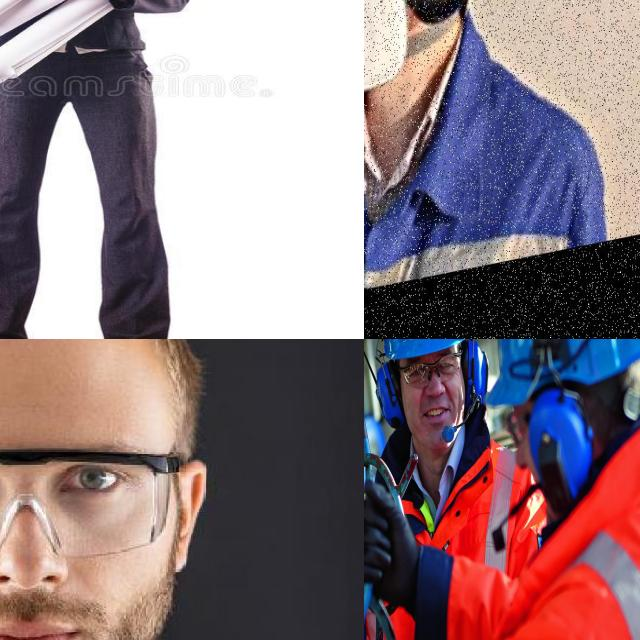Ear-protection: (406, 0, 493, 70)
No_Ear-Protection: (174, 463, 210, 574)
face_nomask: (0, 511, 176, 640), (399, 354, 466, 449)
glasses: (0, 450, 180, 555), (398, 355, 464, 392)
hand_glove: (364, 474, 418, 594)
head_helmet: (488, 339, 640, 405)
person: (364, 0, 609, 290), (490, 339, 640, 640), (371, 339, 514, 572)
vest: (364, 478, 640, 640), (370, 440, 518, 640)
